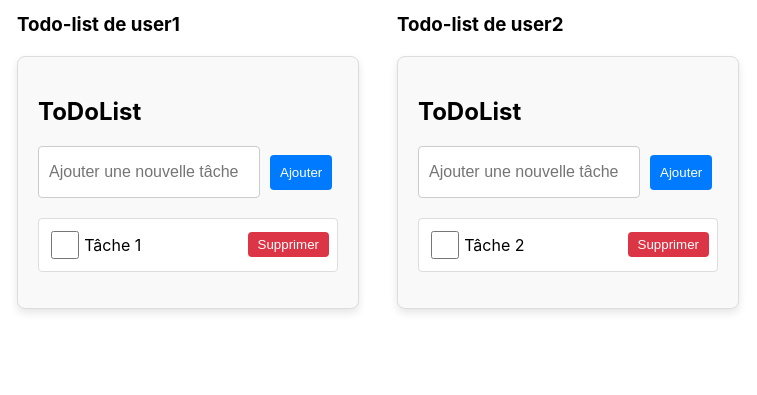
Test: AdminDashboard Component › should handle task addition for a specific user
Type "Nouvelle Tâche" into the field with placeholder "Ajouter une nouvelle tâche" below "user1" at point(149, 172), box [38,146,260,198]
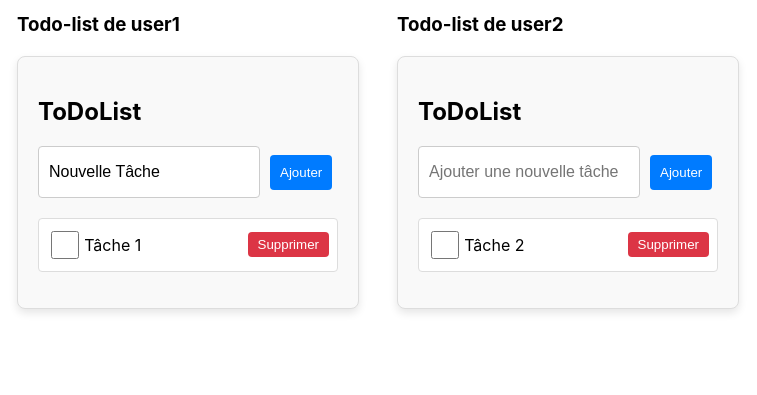
Click the button "Ajouter" below "user1" at point(301, 172), box [270,154,332,190]
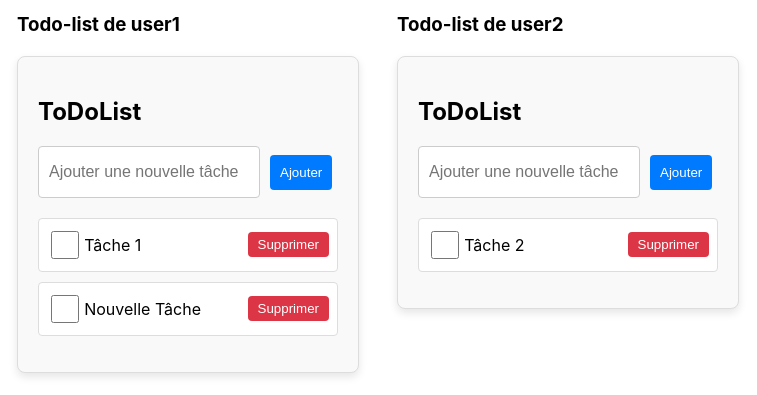
Check: the text "Nouvelle Tâche" is shown, box [84,298,201,318]
